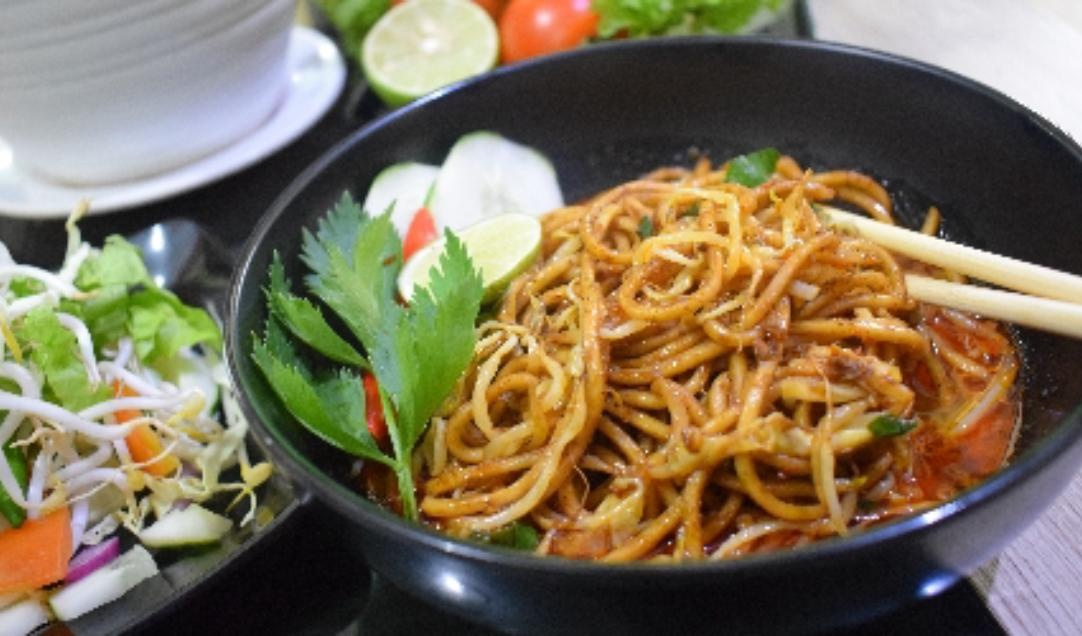mie_aceh: (433, 163, 1011, 556)
